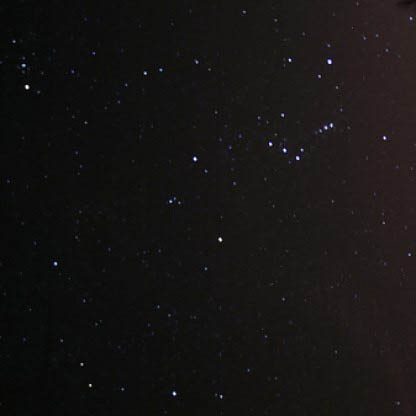Orion: (323, 54, 344, 73), (374, 127, 393, 146), (261, 135, 278, 152), (185, 152, 202, 167), (216, 228, 228, 246), (278, 144, 291, 160), (295, 151, 306, 169)
